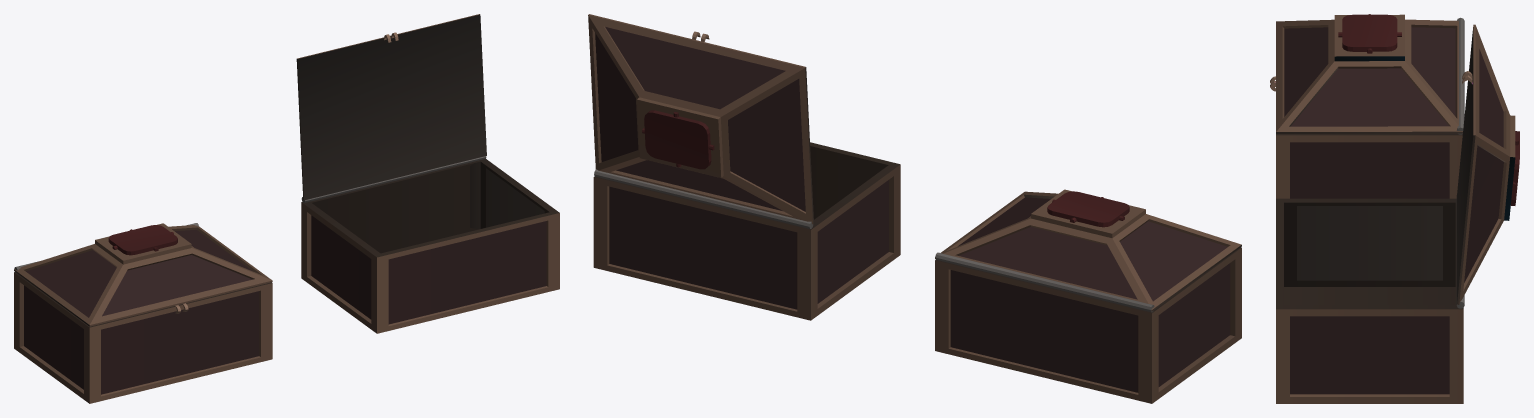
File: Boxes_Church.fbx
The picture shows the model from 3 angles, left to right: view 1: azimuth 30°, elevation 25°; view 2: azimuth 150°, elevation 25°; view 3: azimuth 270°, elevation 25°; orthographic projection. The views are drawn at different scales.
Visible parts, largest first — view 1: Box Opened, Box Closed; view 2: Box Opened, Box Closed; view 3: Box Opened, Box Closed.
Part boxes in pixels (x1=…): Box Opened: x1=296, y1=14, x2=559, y2=333; Box Closed: x1=14, y1=223, x2=272, y2=403; Box Opened: x1=588, y1=14, x2=900, y2=320; Box Closed: x1=935, y1=189, x2=1241, y2=403; Box Opened: x1=1276, y1=24, x2=1519, y2=403; Box Closed: x1=1270, y1=14, x2=1464, y2=198.
Size of the model in its own units: 411 by 185 by 153.
1 material, 1 textured.
